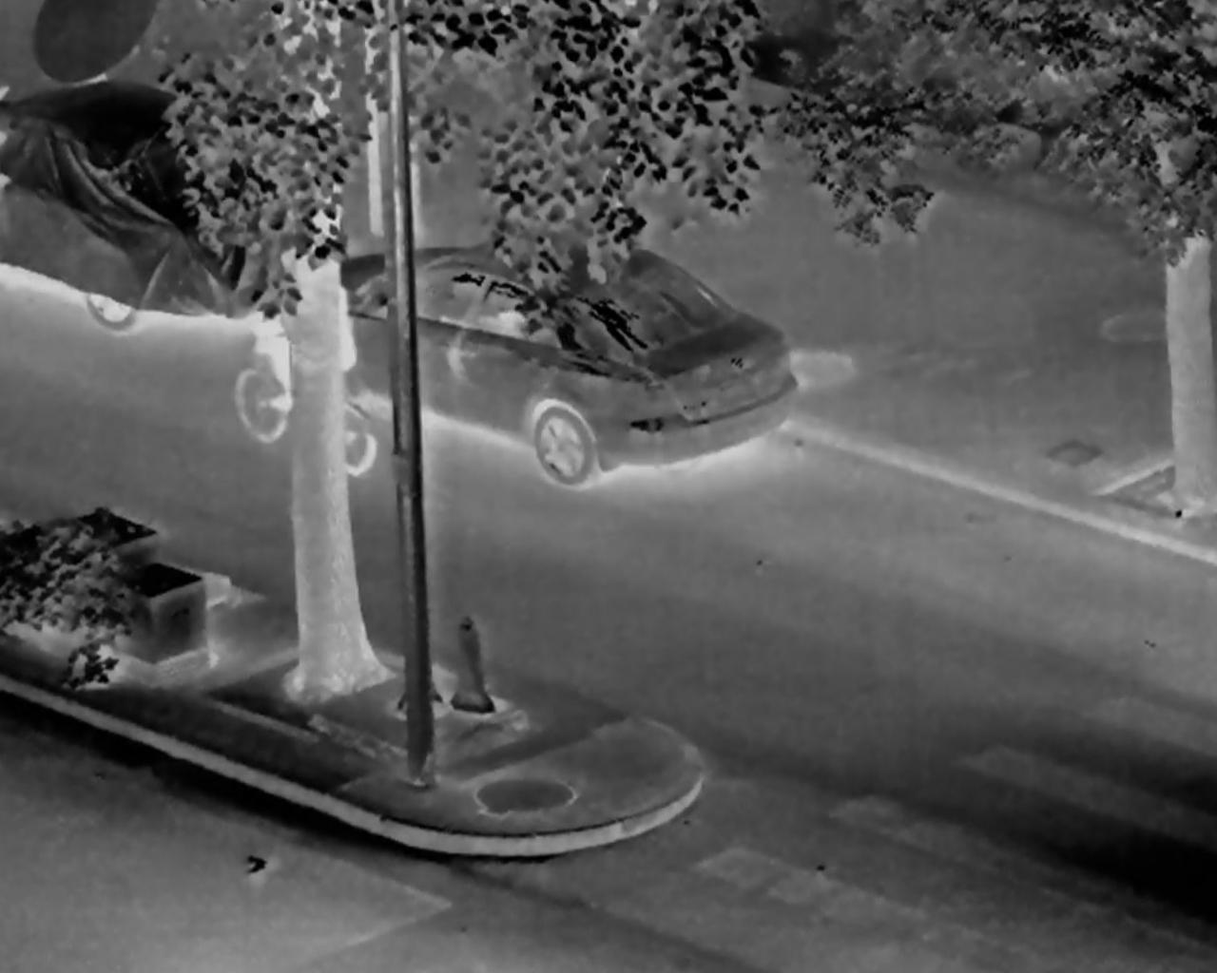person: (259, 258, 357, 420)
